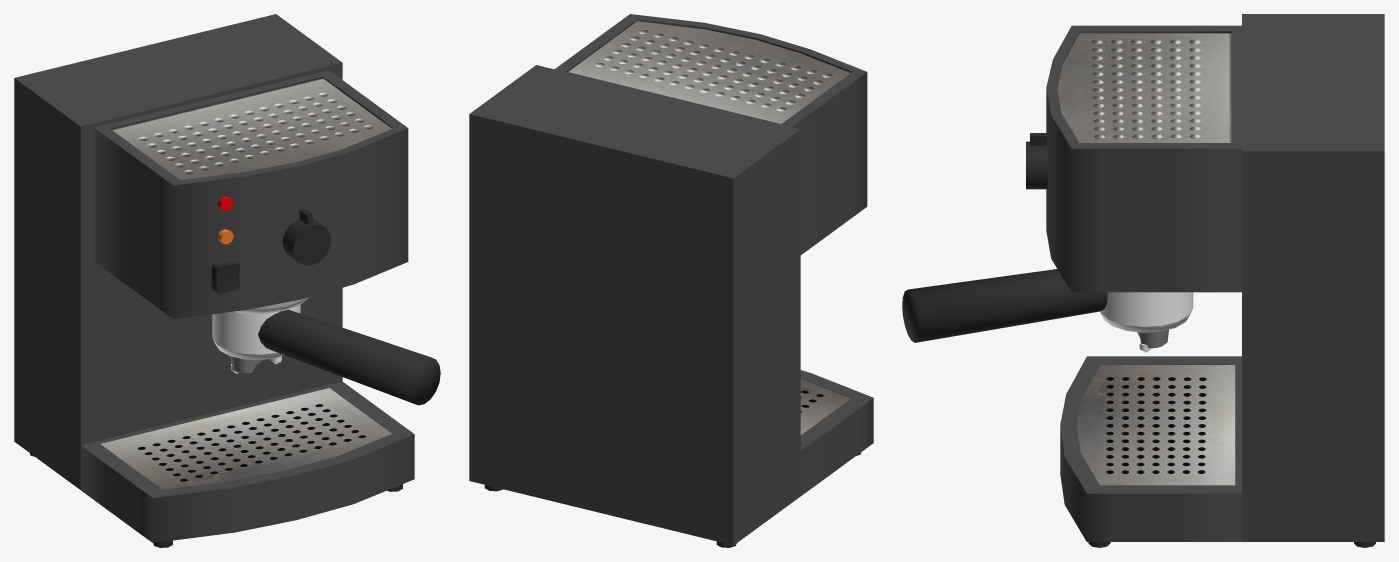
Rendered from percolateur.obj.
The picture shows the model from 3 angles, left to right: view 1: azimuth 30°, elevation 25°; view 2: azimuth 150°, elevation 25°; view 3: azimuth 270°, elevation 25°; orthographic projection. The views are drawn at different scales.
Parts seen in each view (by area): view 1: Cube_1, Boolean_1, Boolean_1_1, grille, plaque, manche, Cylinder_11, object 2, on/off; view 2: Cube_1, plaque, Boolean_1, Boolean_1_1, grille; view 3: Cube_1, Boolean_1, plaque, grille, Boolean_1_1, manche, Cylinder_11, object 2.
Boxes of the visible parts, x1,y1,x2,y2 form: Cube_1: (14,14,342,489); Boolean_1: (94,70,408,319); Boolean_1_1: (80,381,414,542); grille: (100,388,391,489); plaque: (112,78,391,179); manche: (258,309,440,405); Cylinder_11: (212,305,300,359); object 2: (282,208,331,265); on/off: (211,261,239,294); Cube_1: (469,65,800,545); plaque: (568,21,850,123); Boolean_1: (555,14,867,254); Boolean_1_1: (800,370,873,495); grille: (800,379,850,434); Cube_1: (1242,14,1384,541); Boolean_1: (1046,25,1241,292); plaque: (1057,33,1231,142); grille: (1077,365,1235,485); Boolean_1_1: (1060,356,1241,541); manche: (902,269,1107,342); Cylinder_11: (1100,292,1193,332); object 2: (1026,133,1047,189).
Bounding box in the file's own units: 20.51 × 27.87 × 30.45.
Materials: 8 (2 with a texture image).
